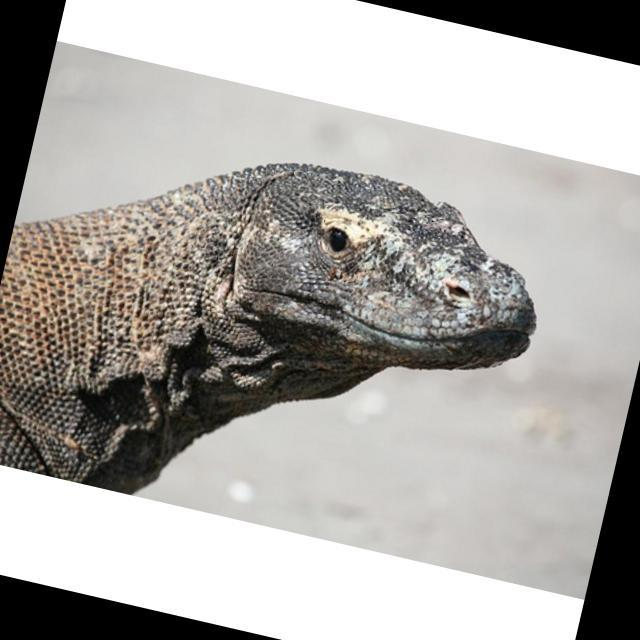KomodoDragon: (0, 98, 559, 571)
